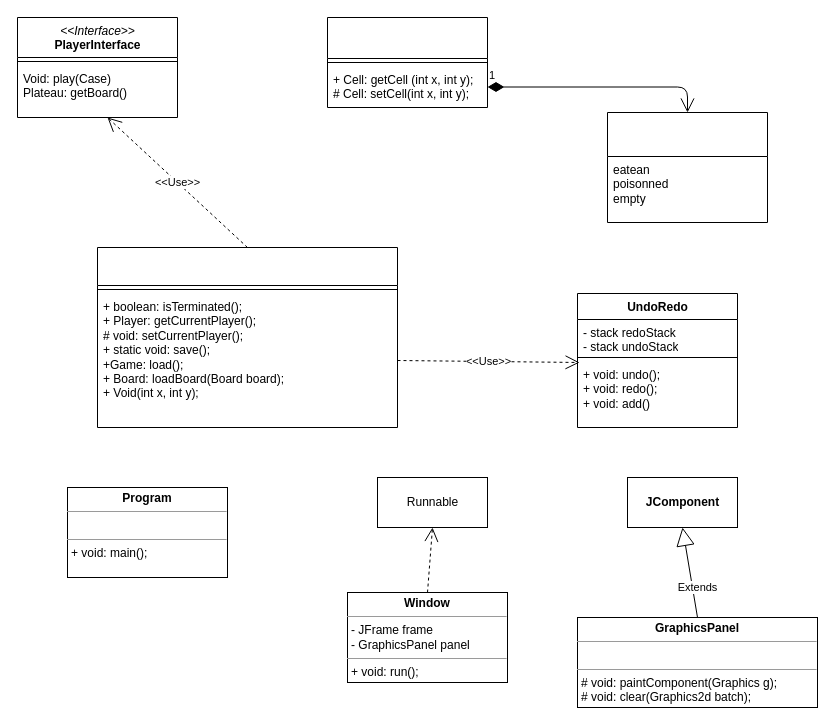
Image size: 835x725. Some labels were removed from this diagram. The shapes that lost their labels are listed below. From the top down, each one's box as (x1, y1, x2, y2) in pixels, then its label:
(326, 16, 488, 108): <<Inteface>> BoardInterface
(606, 112, 768, 222): <<Enum>> Cell
(96, 246, 398, 428): <<Interface>> GameInterface
